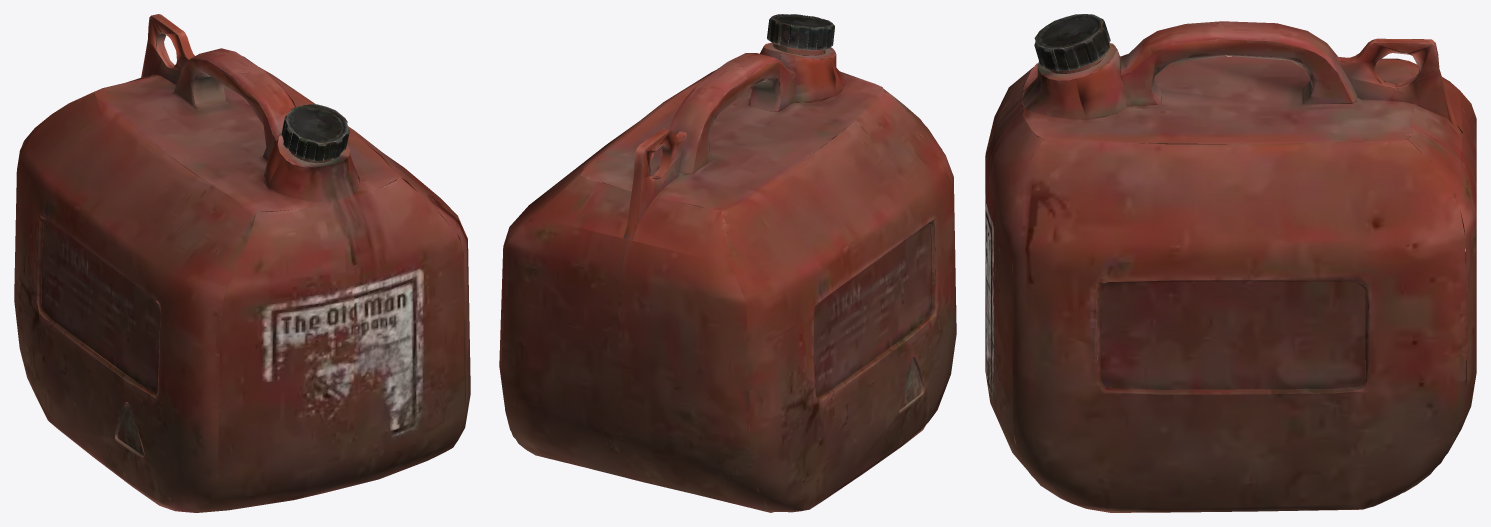
File: plastic_jerrycan.glb
3 views of the same model, side by side, from view 1: azimuth 30°, elevation 25°; view 2: azimuth 150°, elevation 25°; view 3: azimuth 270°, elevation 25° (orthographic). The views are drawn at different scales.
Visible parts, largest first — view 1: plastic_jerrycan; view 2: plastic_jerrycan; view 3: plastic_jerrycan.
Part boxes in pixels (box(x1,y1,x2,y2)): plastic_jerrycan: box(14, 14, 470, 512); plastic_jerrycan: box(499, 14, 956, 512); plastic_jerrycan: box(985, 14, 1476, 512).
Size of the model in its own units: 0.2678 by 0.3186 by 0.3399.
1 material, 1 textured.
